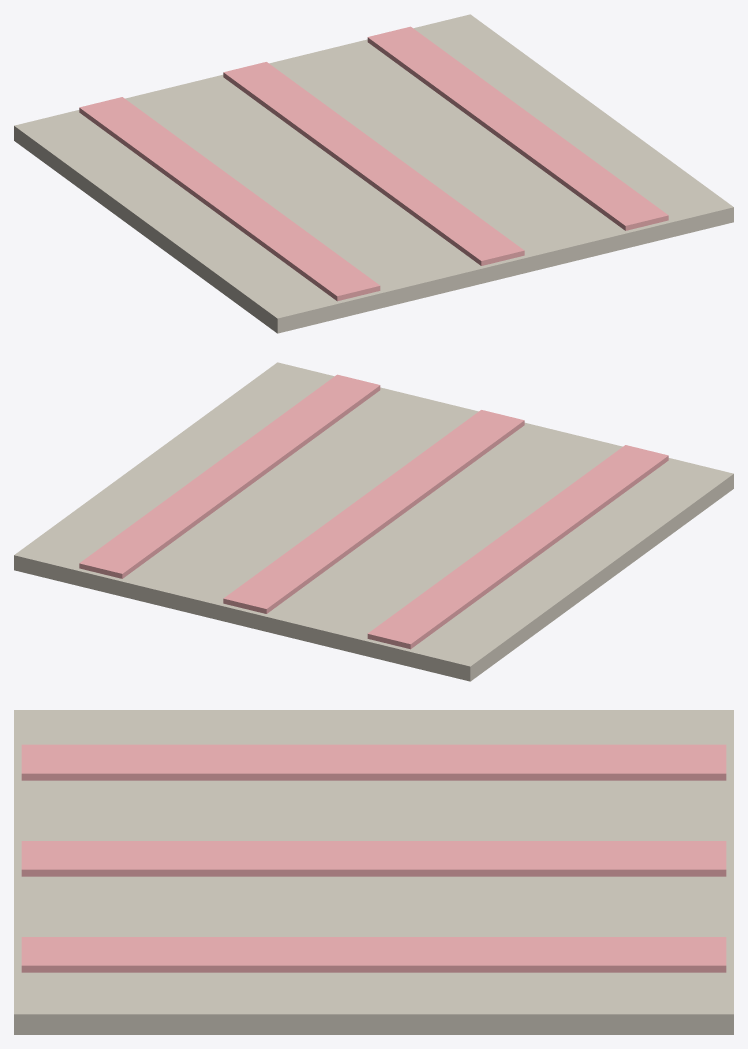
Rendered from picnic.glb.
3 views of the same model, one above another, from view 1: azimuth 30°, elevation 25°; view 2: azimuth 150°, elevation 25°; view 3: azimuth 270°, elevation 25° (orthographic). The views are drawn at different scales.
Parts seen in each view (by area): view 1: blanket, stripe2, stripe1, stripe0; view 2: blanket, stripe2, stripe1, stripe0; view 3: blanket, stripe0, stripe1, stripe2.
Boxes of the visible parts, bbox=[...] form: blanket: bbox=[14, 14, 733, 333]; stripe2: bbox=[367, 26, 668, 230]; stripe1: bbox=[223, 62, 524, 265]; stripe0: bbox=[79, 97, 380, 301]; blanket: bbox=[14, 362, 733, 681]; stripe2: bbox=[79, 374, 380, 578]; stripe1: bbox=[223, 410, 524, 613]; stripe0: bbox=[367, 445, 668, 649]; blanket: bbox=[14, 710, 733, 1034]; stripe0: bbox=[21, 744, 726, 780]; stripe1: bbox=[21, 841, 726, 876]; stripe2: bbox=[21, 937, 726, 972].
Bounding box in the file's own units: 0.95 × 0.04 × 0.95.
